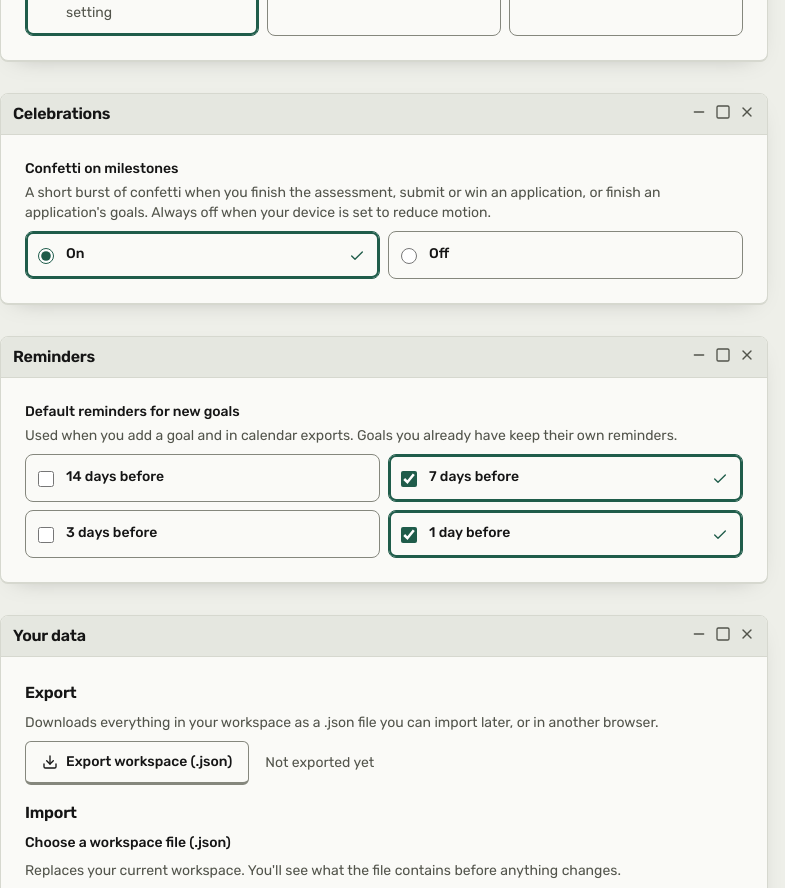
Test: Settings › keeps at least one default reminder
(page scrolled)
Click the checkbox labelled "14 days before" at (46, 479), box [38,471,54,487]
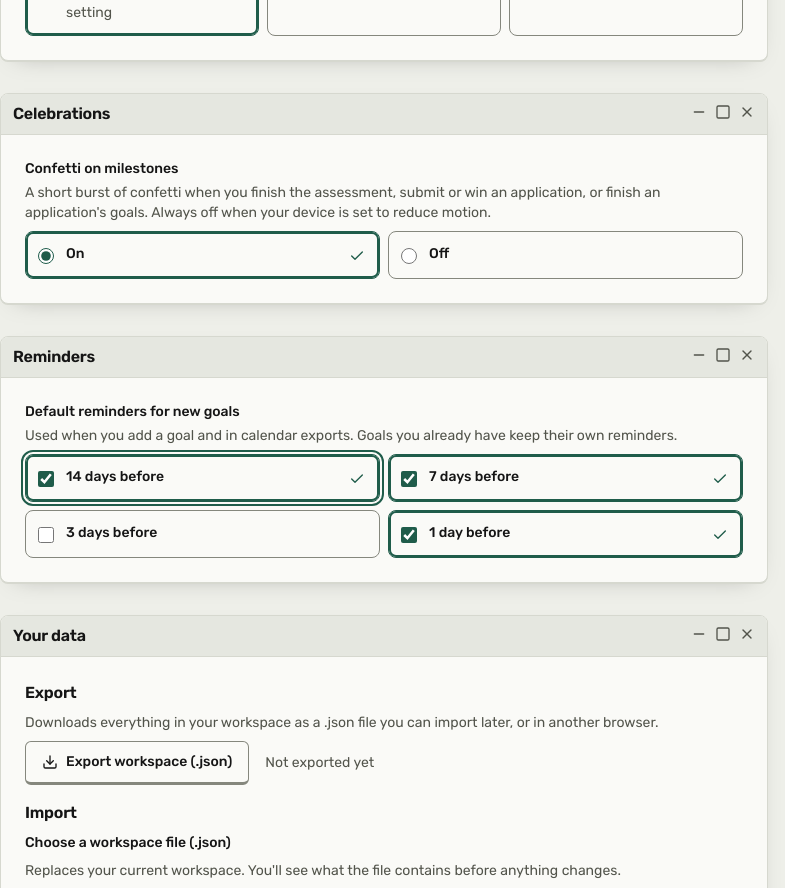
Click the checkbox labelled "14 days before" at (46, 479), box [38,471,54,487]
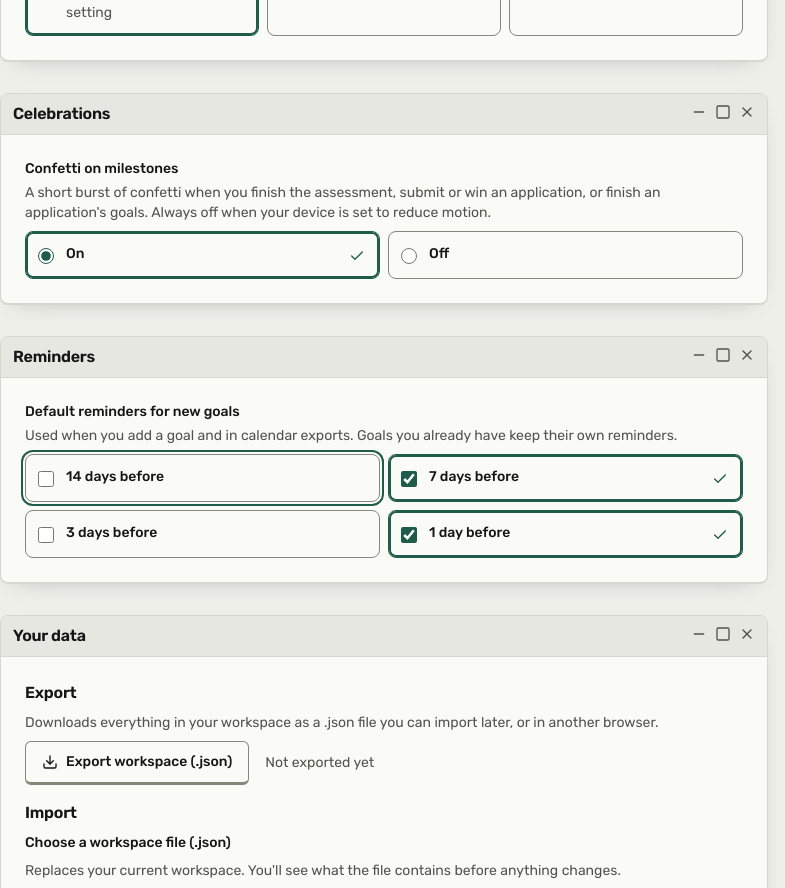
Click the checkbox labelled "7 days before" at (409, 479), box [401,471,417,487]
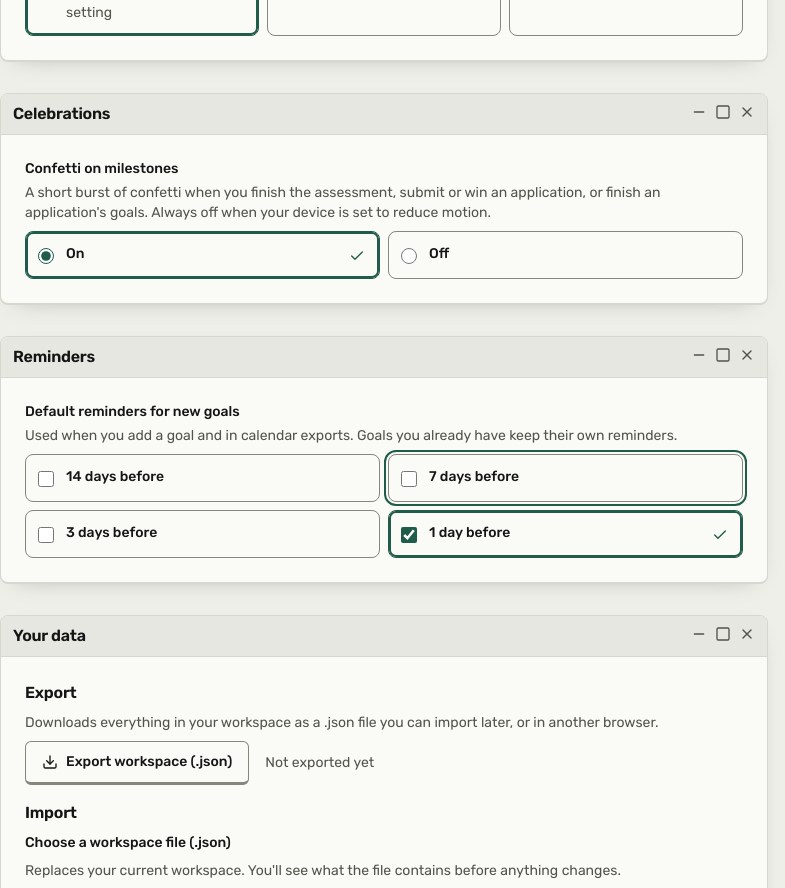
Click the checkbox labelled "1 day before" at (409, 535), box [401,527,417,543]
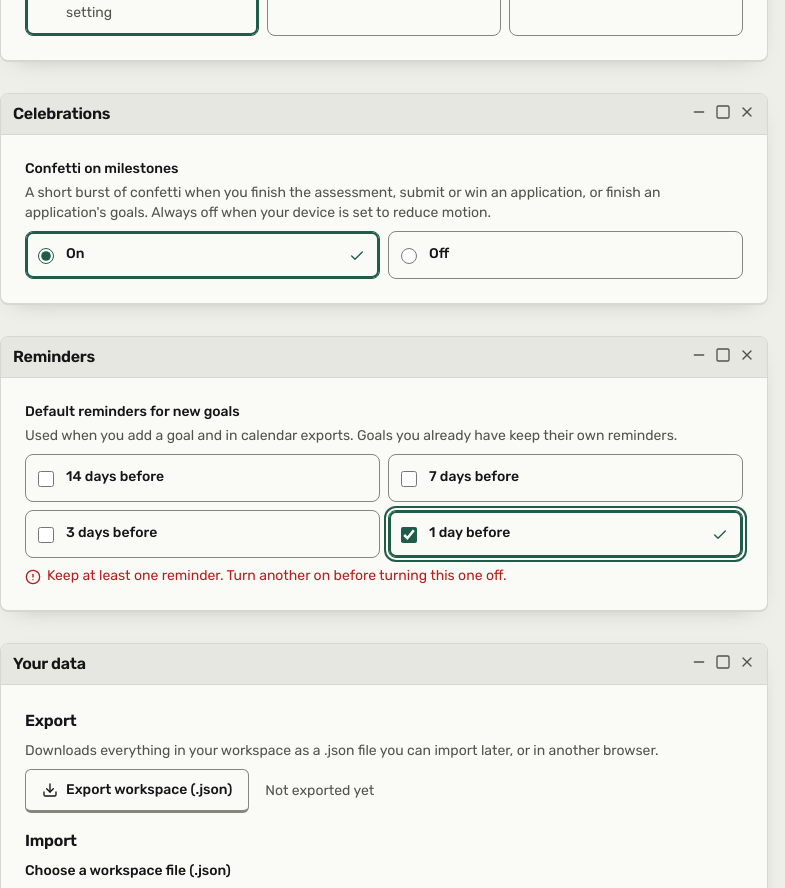
Expected: the text "Keep at least one reminder" is shown, [47,567,506,584]
